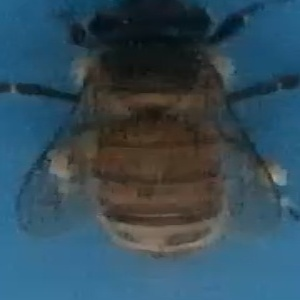bee: (15, 1, 295, 264)
